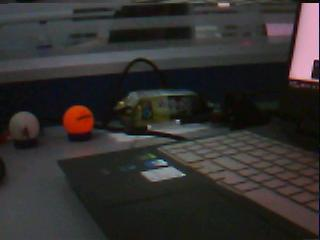oball: (64, 105, 93, 130)
